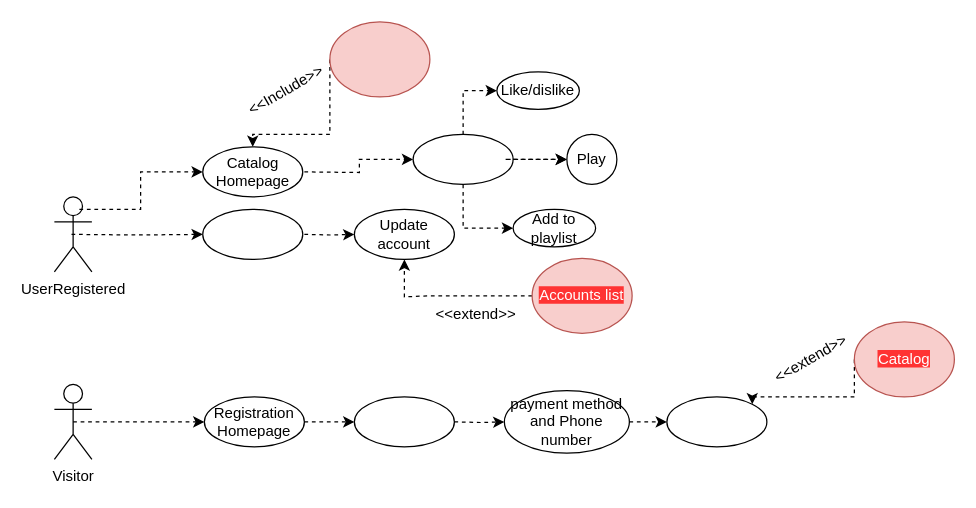
The diagram is 976 pixels wide and 508 high, and some of its shapes have lost their labels. Each missing label, with the centre of its shape:
Account settings: the point at 252,233
Choose 3 contents: the point at 716,421
Confirm user data: the point at 403,421
Content Details: the point at 462,158
Download Catalog: the point at 379,59
